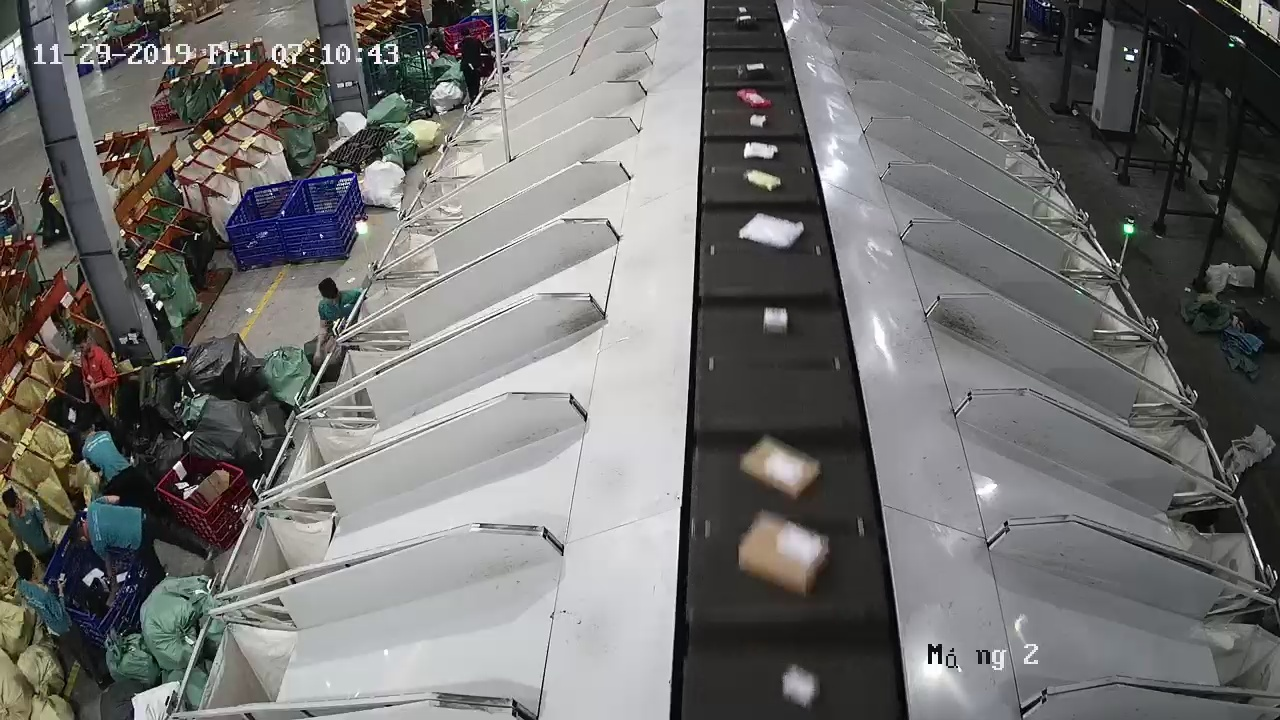parcel: (739, 514, 829, 599), (744, 439, 821, 500), (738, 213, 804, 250), (782, 666, 819, 708), (746, 169, 782, 191), (763, 306, 789, 335), (742, 141, 778, 160)
